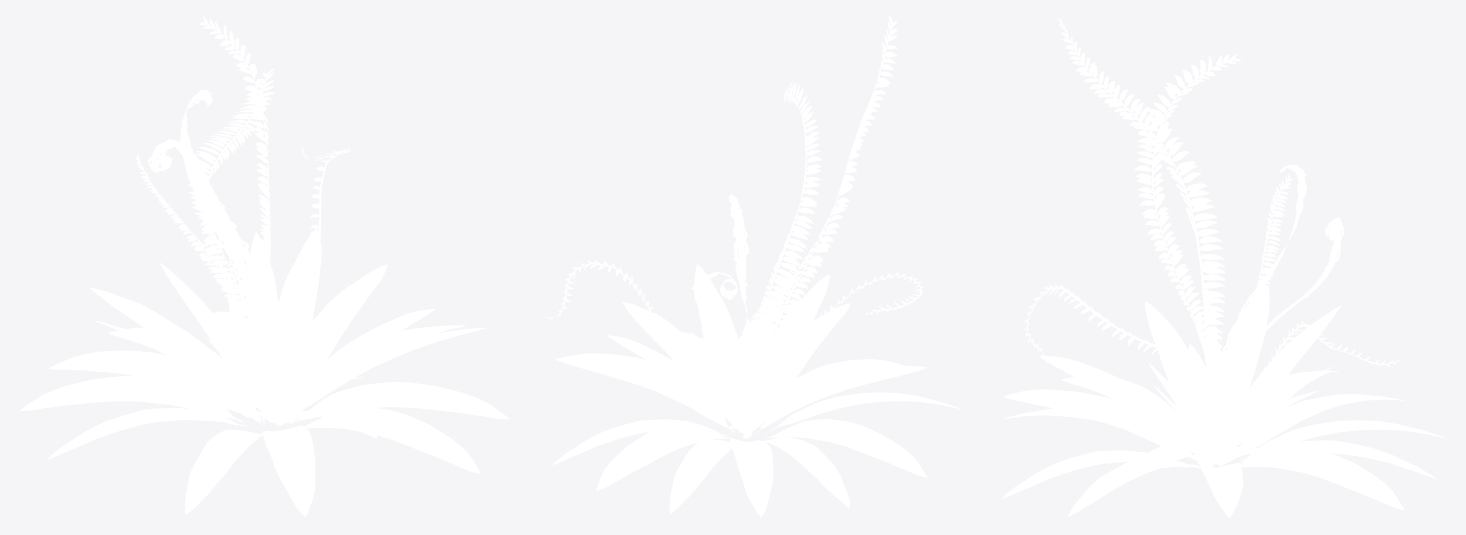
The picture shows the model from 3 angles, left to right: view 1: azimuth 30°, elevation 25°; view 2: azimuth 150°, elevation 25°; view 3: azimuth 270°, elevation 25°; orthographic projection. The views are drawn at different scales.
Parts seen in each view (by area): view 1: SM_SW_SwampFern_01_LOD0; view 2: SM_SW_SwampFern_01_LOD0; view 3: SM_SW_SwampFern_01_LOD0.
Boxes of the visible parts, bbox=[...] form: SM_SW_SwampFern_01_LOD0: bbox=[19, 16, 508, 516]; SM_SW_SwampFern_01_LOD0: bbox=[545, 15, 961, 517]; SM_SW_SwampFern_01_LOD0: bbox=[1001, 17, 1445, 517].
Bounding box in the file's own units: 1.34 × 1.31 × 1.31.
Materials: 1 (1 with a texture image).
